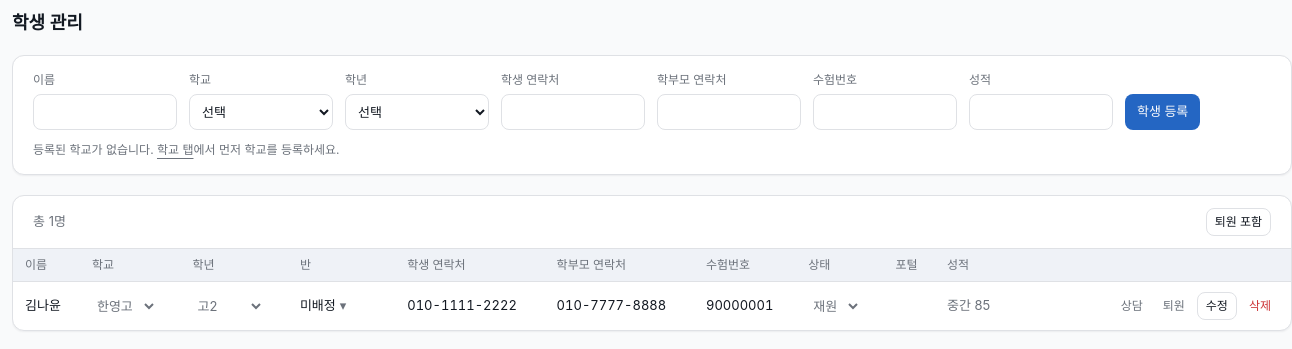
StudentsPage › deletes a student straight from the row without asking
Click the button with aria-label "김나윤 삭제". click: (1260, 306)
box: [1241, 292, 1279, 320]
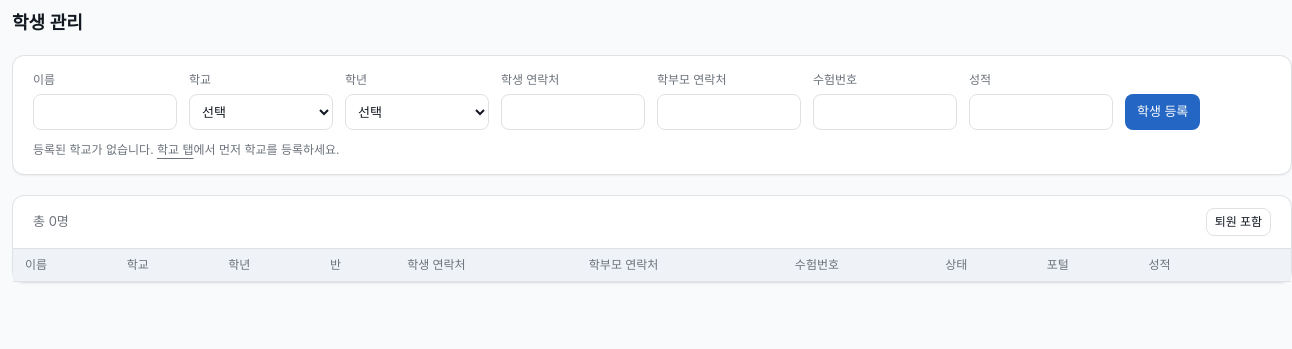
Now the text "김나윤" is gone
